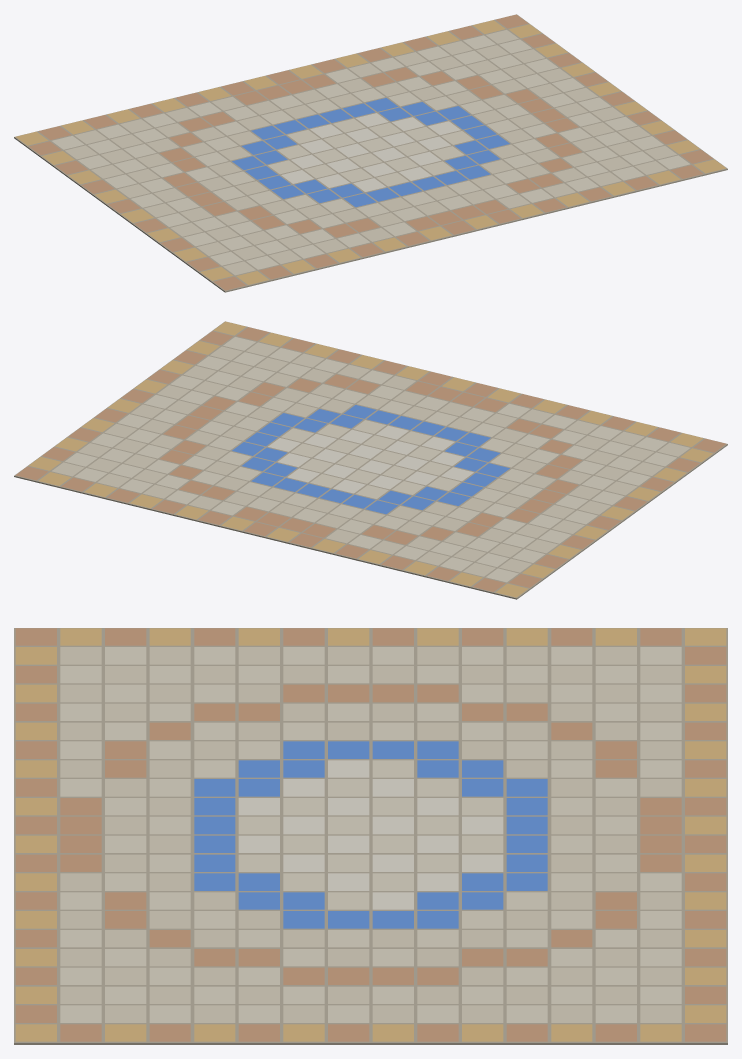
The model's file is plaza_paving.glb.
The picture shows the model from 3 angles, top to bottom: view 1: azimuth 30°, elevation 25°; view 2: azimuth 150°, elevation 25°; view 3: azimuth 270°, elevation 25°; orthographic projection. The views are drawn at different scales.
Size of the model in its own units: 17.6 by 0.05 by 12.8.
